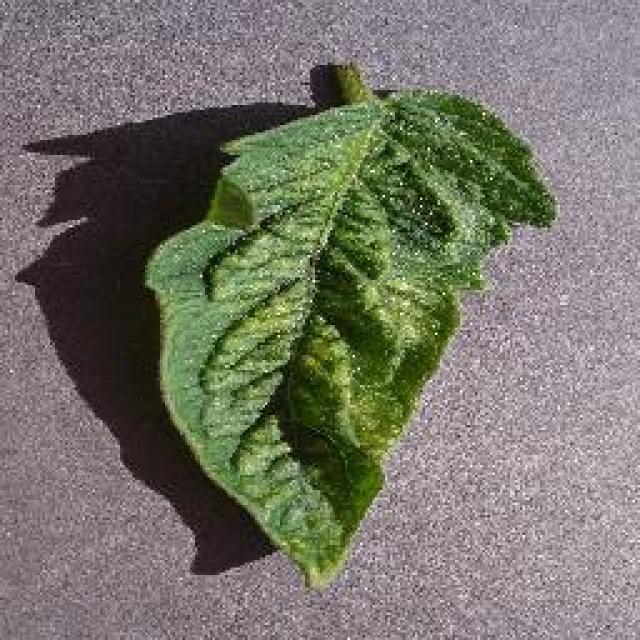Tomato___Spider_mites Two-spotted_spider_mite: (145, 65, 555, 582)
